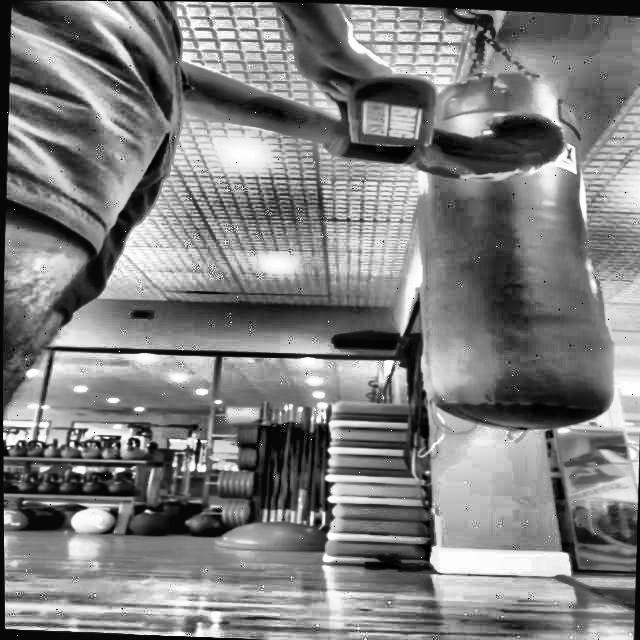boxing-bag: (410, 44, 624, 434)
